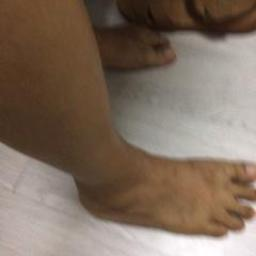Lateral View -Right Foot-: (36, 129, 255, 248)
